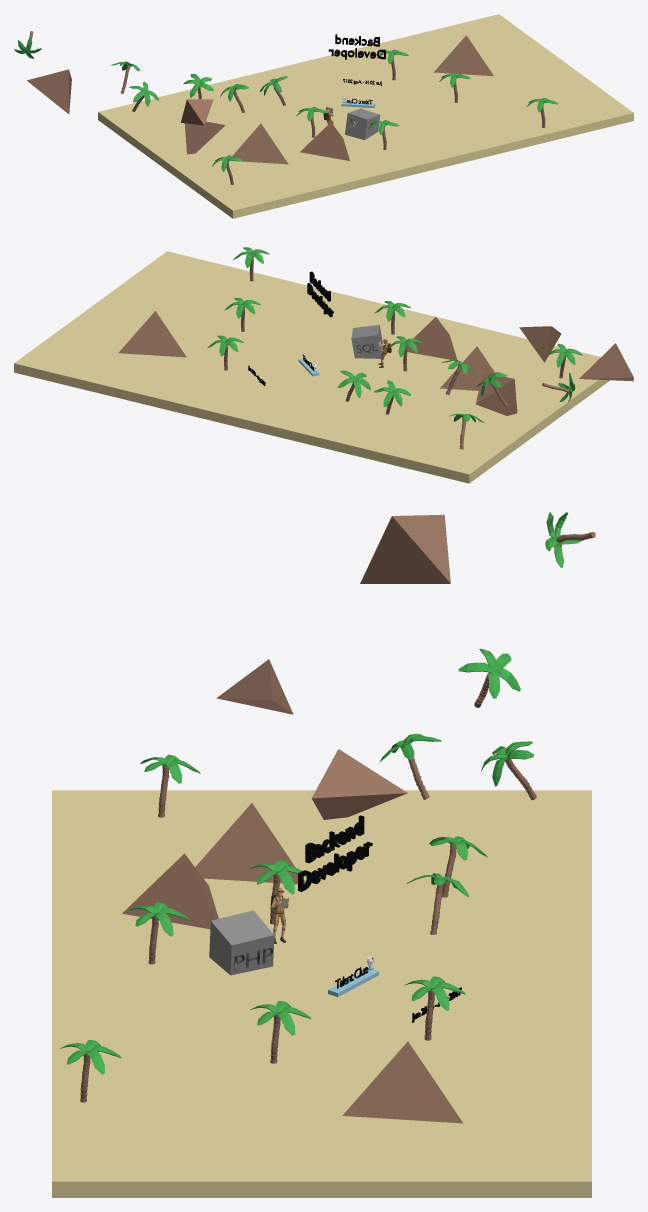
The picture shows the model from 3 angles, top to bottom: view 1: azimuth 30°, elevation 25°; view 2: azimuth 150°, elevation 25°; view 3: azimuth 270°, elevation 25°; orthographic projection. The views are drawn at different scales.
Visible parts, largest first — view 1: Cube, Cone.002, Cone, Cone.005, Cone.003, Cube.090, Cone.001, Cone.004, Text.015, Cylinder.009, Cylinder.008; view 2: Cube, Cone.002, Cone.003, Cone.001, Cone.005, Cone, Cube.090, Cone.004, Text.015, Cylinder.010, Cylinder.001, Cylinder.004 (+6 smaller); view 3: Cube, Cone.005, Cone.002, Cone, Cone.001, Cone.003, Cube.090, Text.015, Cone.004, Cylinder.006, Cylinder.009, Cylinder.005 (+6 smaller).
Part boxes in pixels (x1,y1,x2,y2): Cube: (98, 14, 633, 218); Cone.002: (433, 35, 493, 76); Cone: (231, 123, 288, 164); Cone.005: (27, 69, 71, 114); Cone.003: (300, 122, 349, 160); Cube.090: (345, 108, 380, 140); Cone.001: (184, 121, 225, 154); Cone.004: (181, 99, 213, 125); Text.015: (328, 34, 385, 59); Cylinder.009: (129, 81, 158, 111); Cylinder.008: (183, 74, 213, 99); Cube: (14, 251, 609, 483); Cone.002: (118, 311, 186, 357); Cone.003: (407, 317, 457, 360); Cone.001: (475, 373, 517, 415); Cone.005: (579, 343, 633, 381); Cone: (440, 346, 494, 390); Cube.090: (351, 325, 383, 358); Cone.004: (519, 326, 561, 362); Text.015: (307, 271, 333, 317); Cylinder.010: (337, 370, 370, 401); Cylinder.001: (374, 380, 410, 414); Cylinder.004: (549, 343, 582, 378); Cube: (52, 790, 591, 1197); Cone.005: (360, 514, 450, 583); Cone.002: (342, 1041, 462, 1123); Cone: (195, 803, 305, 884); Cone.001: (311, 749, 407, 819); Cone.003: (122, 853, 218, 929); Cube.090: (209, 910, 274, 975); Text.015: (298, 815, 372, 891); Cone.004: (216, 659, 293, 714); Cylinder.006: (458, 648, 520, 707); Cylinder.009: (481, 741, 536, 800); Cylinder.005: (404, 976, 465, 1040).
Bounding box in the file's own units: 49.12 × 10.04 × 22.7.
